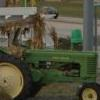Tractor: (10, 7, 100, 100)
